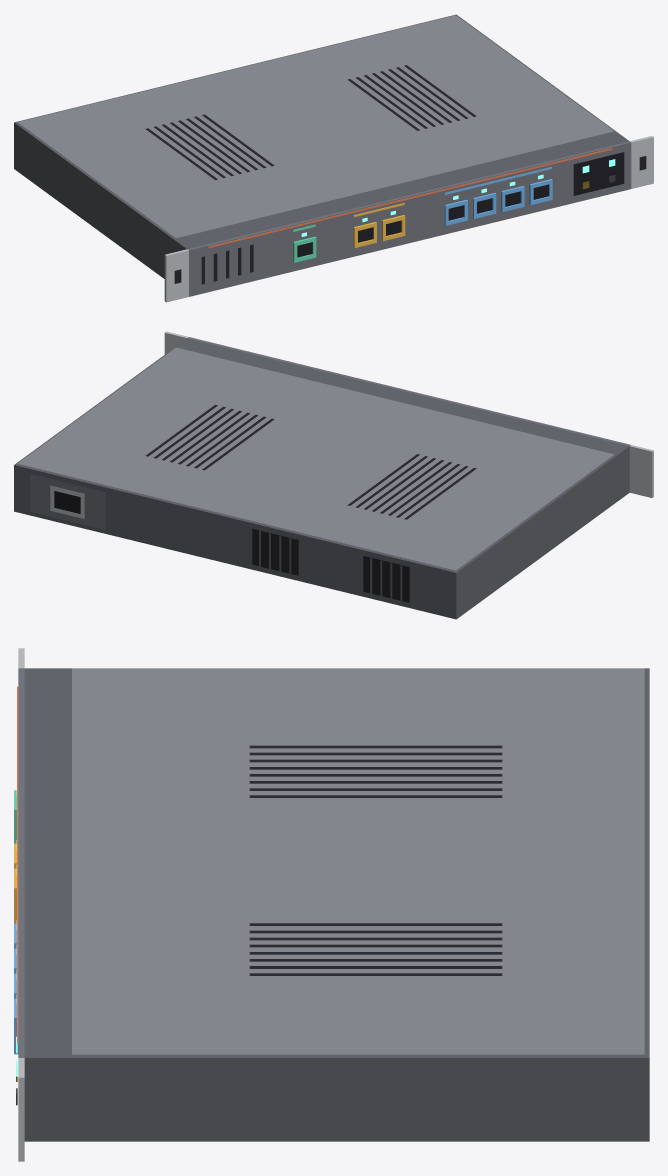
File: fw_1u_enterprise.glb
3 views of the same model, one above another, from view 1: azimuth 30°, elevation 25°; view 2: azimuth 150°, elevation 25°; view 3: azimuth 270°, elevation 25° (orthographic). The views are drawn at different scales.
Visible parts, largest first — view 1: Body; view 2: Body; view 3: Body.
Part boxes in pixels (left/top/right/bottom): Body: left=14, top=14, right=653, bottom=302; Body: left=14, top=331, right=653, bottom=619; Body: left=14, top=648, right=649, bottom=1161.
Size of the model in its own units: 0.4826 by 0.0452 by 0.304.
